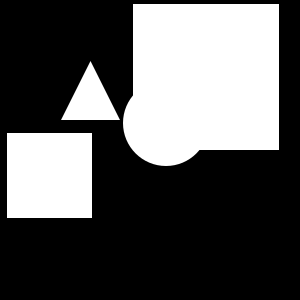circle: (133, 4, 279, 150), (7, 133, 92, 218)
rectangle: (123, 80, 209, 166)
triangle: (150, 26, 271, 147), (61, 61, 120, 120)
